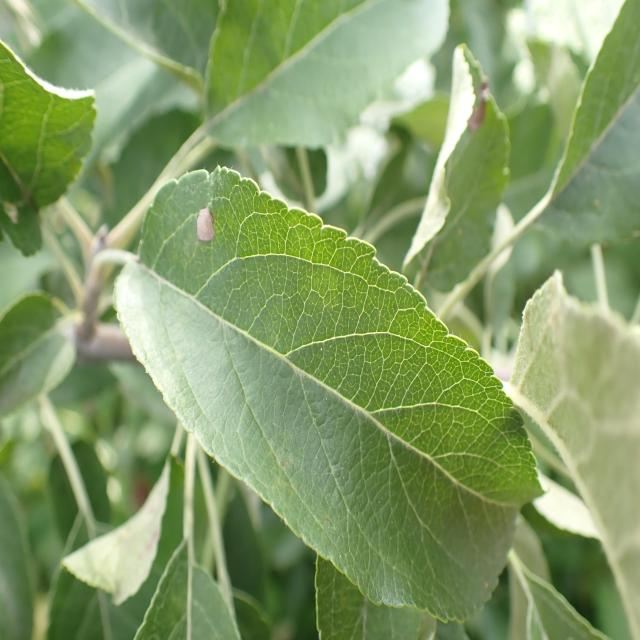Black Rot: (184, 190, 221, 254)
